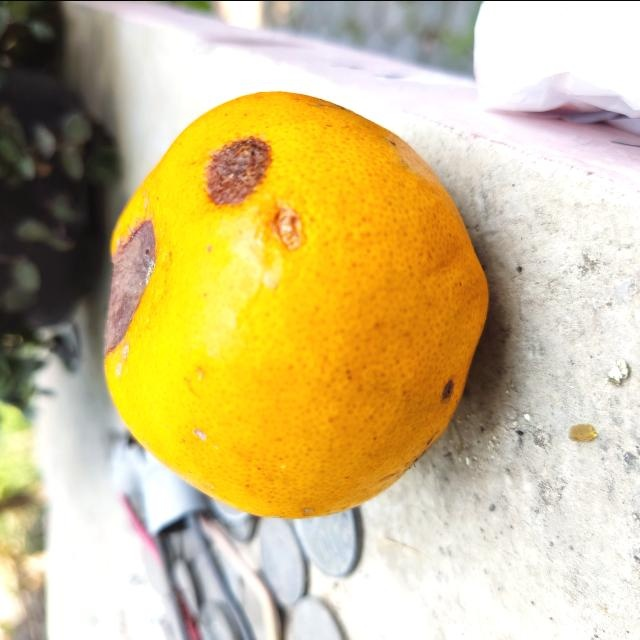agrume: (105, 86, 491, 522)
